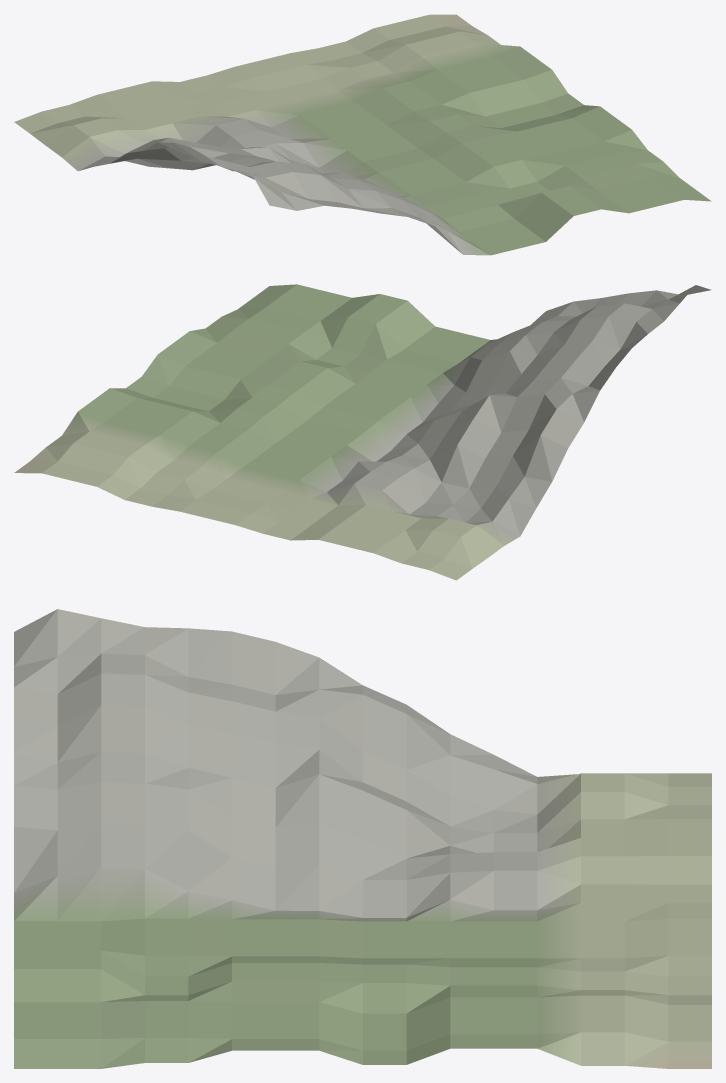
The picture shows the model from 3 angles, top to bottom: view 1: azimuth 30°, elevation 25°; view 2: azimuth 150°, elevation 25°; view 3: azimuth 270°, elevation 25°; orthographic projection. The views are drawn at different scales.
Bounding box in the file's own units: 32 × 9.09 × 32.
